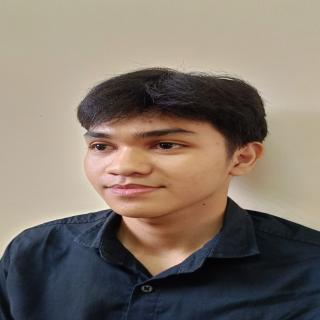Netral: (72, 108, 250, 226)
